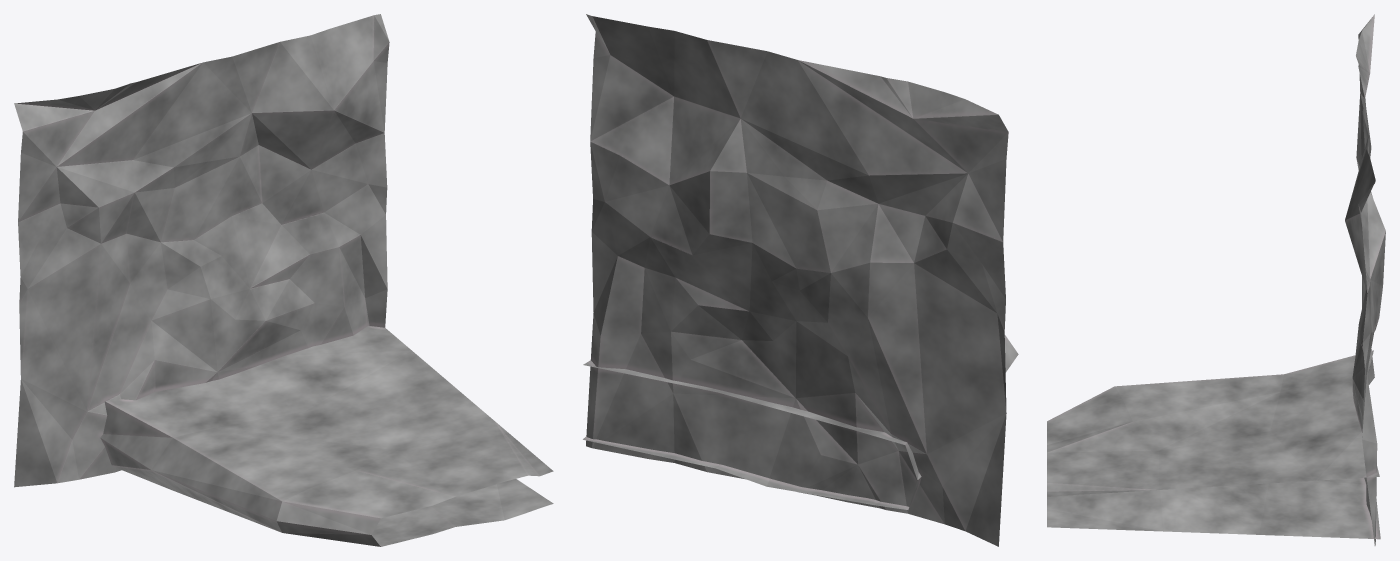
Rendered from WallShelfEnd4.gltf.
3 views of the same model, side by side, from view 1: azimuth 30°, elevation 25°; view 2: azimuth 150°, elevation 25°; view 3: azimuth 270°, elevation 25° (orthographic). The views are drawn at different scales.
Visible parts, largest first — view 1: WallShelfEnd4; view 2: WallShelfEnd4; view 3: WallShelfEnd4.
Part boxes in pixels (left/top/right/bottom): WallShelfEnd4: left=14, top=14, right=553, bottom=546; WallShelfEnd4: left=583, top=14, right=1018, bottom=546; WallShelfEnd4: left=1047, top=14, right=1385, bottom=545.
Bounding box in the file's own units: 5 × 5 × 4.23.
1 material, 1 textured.
